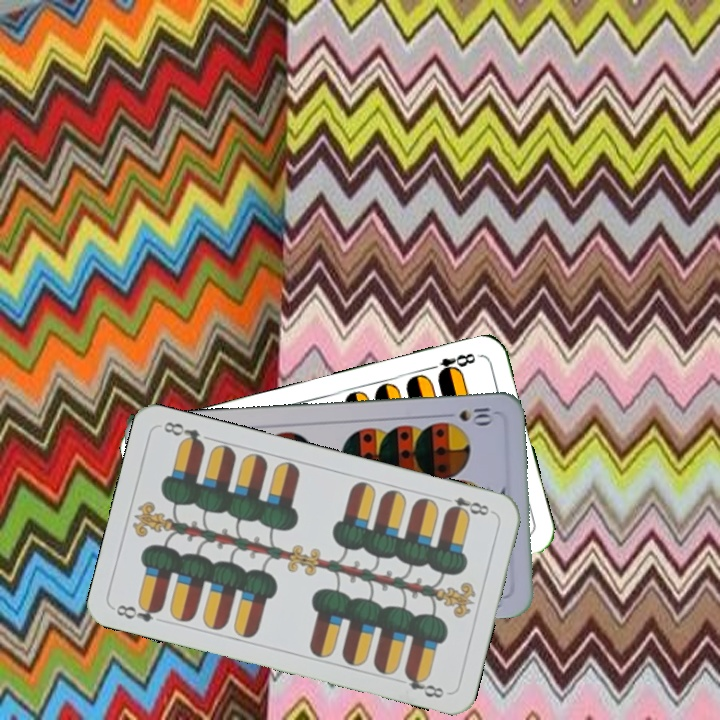E8: (424, 349, 482, 380), (438, 493, 496, 519), (112, 598, 164, 625)
S10: (455, 404, 496, 426)
